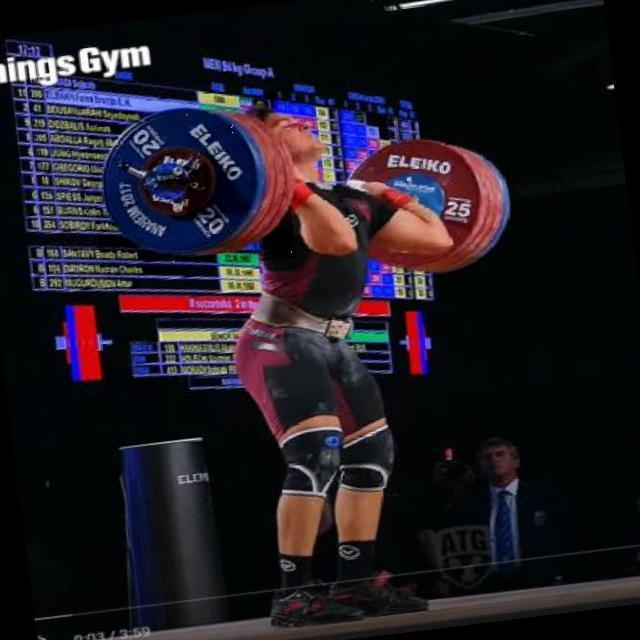barbell: (85, 93, 298, 281)
